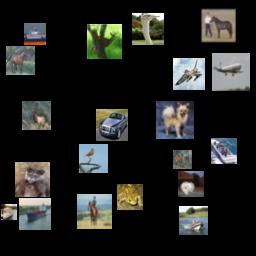airplane: (212, 53, 250, 91), (173, 58, 205, 90)
automobile: (96, 109, 128, 141)
bird: (132, 13, 164, 45), (79, 144, 108, 173)
cat: (15, 162, 50, 197)
deer: (87, 24, 122, 59), (22, 101, 51, 130), (173, 150, 192, 169)
dog: (156, 101, 194, 139), (178, 171, 204, 197)
frog: (117, 184, 143, 210)
ship: (19, 198, 51, 230), (179, 206, 208, 235), (211, 138, 237, 164), (24, 23, 46, 45), (1, 204, 17, 220)
